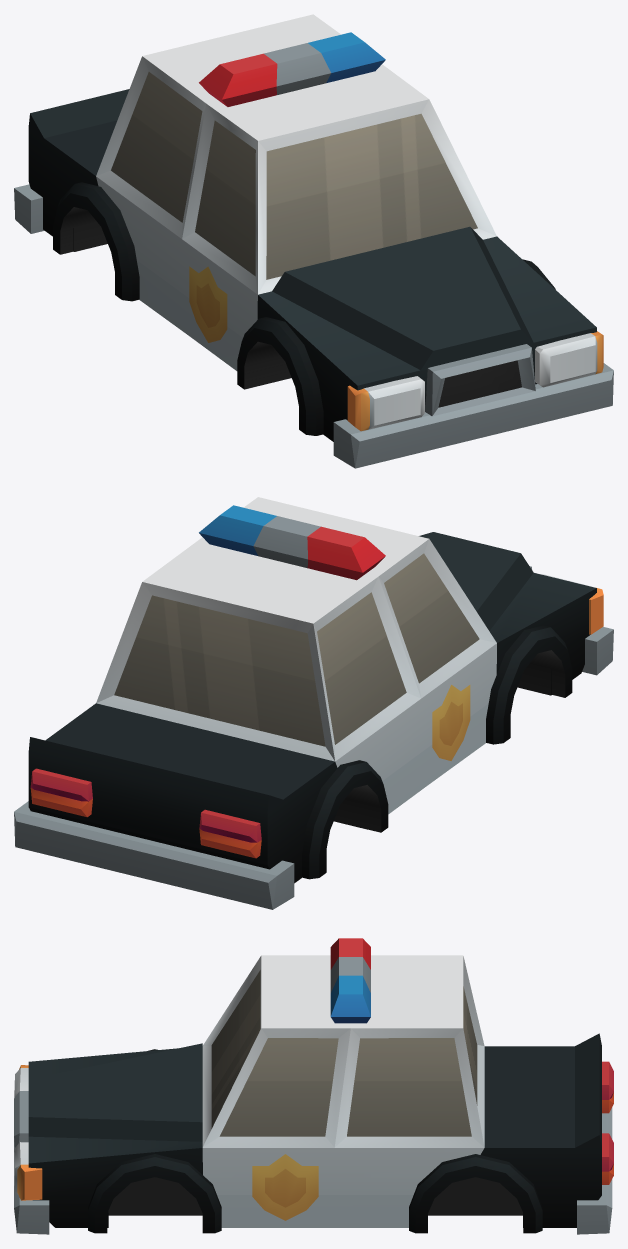
Rendered from car_police.obj.
3 views of the same model, one above another, from view 1: azimuth 30°, elevation 25°; view 2: azimuth 150°, elevation 25°; view 3: azimuth 270°, elevation 25° (orthographic). The views are drawn at different scales.
Bounding box in the file's own units: 0.419 × 0.4239 × 0.9381.
Materials: 1 (1 with a texture image).
